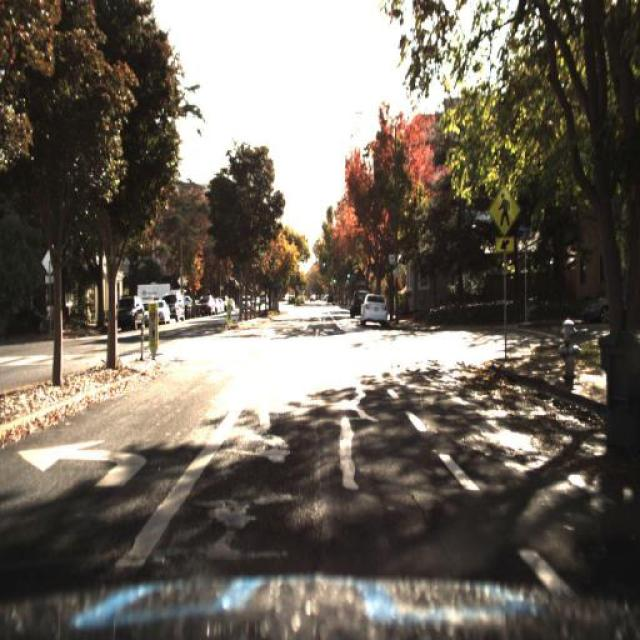car: (358, 290, 389, 326), (110, 298, 142, 330), (170, 292, 186, 322), (156, 298, 172, 324), (350, 293, 360, 317)
trafficLight-GreenLeft: (318, 258, 329, 283), (328, 266, 338, 290), (343, 260, 353, 284), (344, 270, 355, 288), (330, 273, 339, 287)
